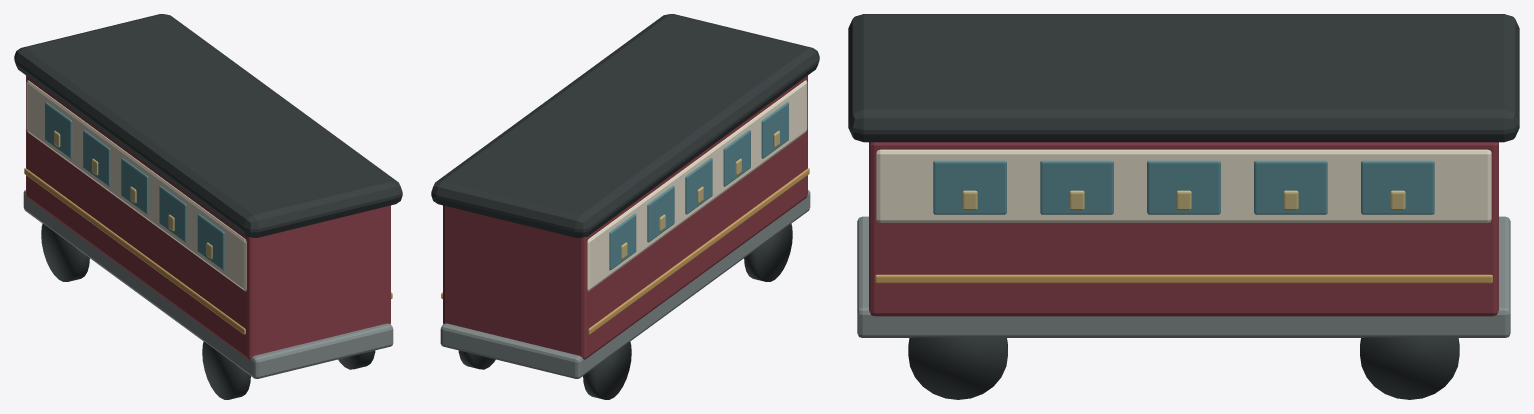
The model's file is coach_dining.glb.
3 views of the same model, side by side, from view 1: azimuth 30°, elevation 25°; view 2: azimuth 150°, elevation 25°; view 3: azimuth 270°, elevation 25° (orthographic). The views are drawn at different scales.
Visible parts, largest first — view 1: coach_dining_black, coach_dining_maroon, coach_dining_steel, coach_dining_ivory, coach_dining_glass, coach_dining_brass, coach_dining_straw; view 2: coach_dining_black, coach_dining_maroon, coach_dining_steel, coach_dining_ivory, coach_dining_glass, coach_dining_brass, coach_dining_straw; view 3: coach_dining_black, coach_dining_maroon, coach_dining_ivory, coach_dining_glass, coach_dining_steel, coach_dining_brass, coach_dining_straw.
Boxes of the visible parts, <box> form: coach_dining_black: <box>14,14,402,399</box>; coach_dining_maroon: <box>26,75,390,359</box>; coach_dining_steel: <box>23,190,393,378</box>; coach_dining_ivory: <box>26,80,246,291</box>; coach_dining_glass: <box>45,102,224,270</box>; coach_dining_brass: <box>24,168,392,334</box>; coach_dining_straw: <box>54,130,212,259</box>; coach_dining_black: <box>431,14,819,399</box>; coach_dining_maroon: <box>443,75,807,359</box>; coach_dining_steel: <box>440,190,810,378</box>; coach_dining_ivory: <box>587,80,807,291</box>; coach_dining_glass: <box>609,102,788,270</box>; coach_dining_brass: <box>441,168,809,334</box>; coach_dining_straw: <box>621,130,779,259</box>; coach_dining_black: <box>848,14,1519,399</box>; coach_dining_maroon: <box>869,142,1498,316</box>; coach_dining_ivory: <box>876,149,1491,222</box>; coach_dining_glass: <box>933,160,1434,214</box>; coach_dining_steel: <box>857,216,1510,337</box>; coach_dining_brass: <box>875,274,1492,283</box>; coach_dining_straw: <box>962,190,1405,210</box>.
Bounding box in the file's own units: 2.15 × 2.7 × 5.65.
